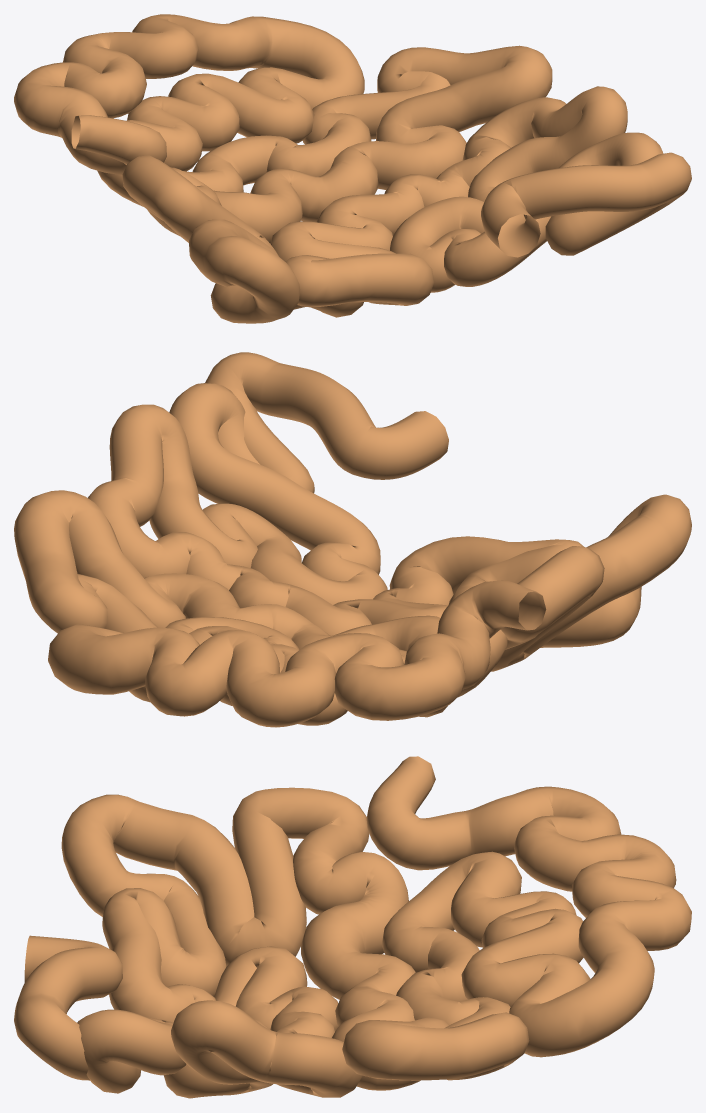
3 views of the same model, one above another, from view 1: azimuth 30°, elevation 25°; view 2: azimuth 150°, elevation 25°; view 3: azimuth 270°, elevation 25° (orthographic). The views are drawn at different scales.
Parts seen in each view (by area): view 1: 空肠; view 2: 空肠; view 3: 空肠.
Boxes of the visible parts, x1,y1,x2,y2 form: 空肠: (14, 14, 691, 323); 空肠: (14, 352, 691, 727); 空肠: (14, 756, 691, 1098).
Size of the model in its own units: 0.2694 by 0.0915 by 0.3075.
